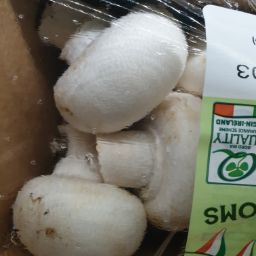Mushrooms: (44, 78, 204, 237), (34, 1, 194, 123), (27, 110, 142, 256)
